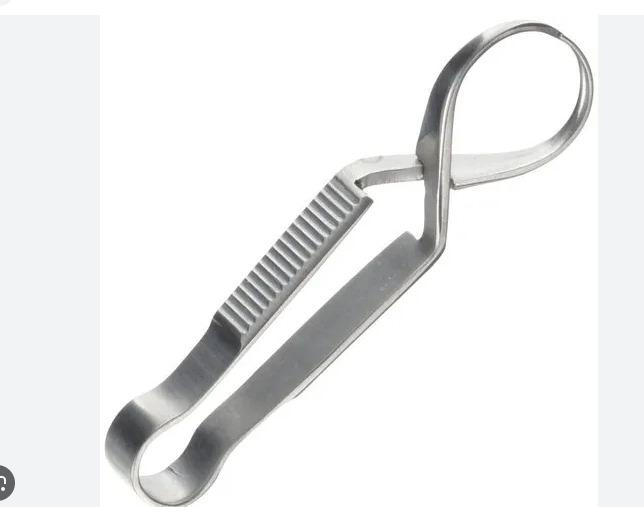Doyen Cross Action Towel Clamp: (99, 15, 595, 503)
